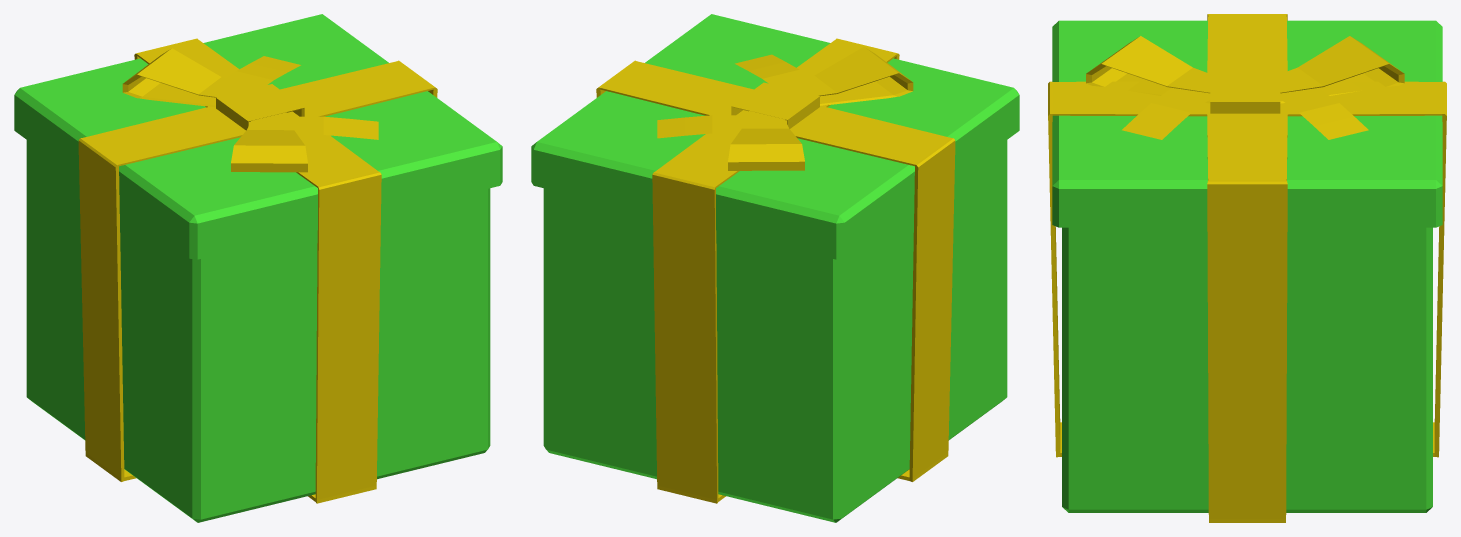
Rendered from green_present.glb.
3 renders of one model, left to right at view 1: azimuth 30°, elevation 25°; view 2: azimuth 150°, elevation 25°; view 3: azimuth 270°, elevation 25°, orthographic. The views are drawn at different scales.
Parts seen in each view (by area): view 1: green present; view 2: green present; view 3: green present.
Boxes of the visible parts, box(x1,y1,x2,y2) form: green present: box(14, 14, 502, 522); green present: box(531, 14, 1019, 522); green present: box(1048, 14, 1446, 522).
Size of the model in its own units: 0.6684 by 0.6751 by 0.665.
